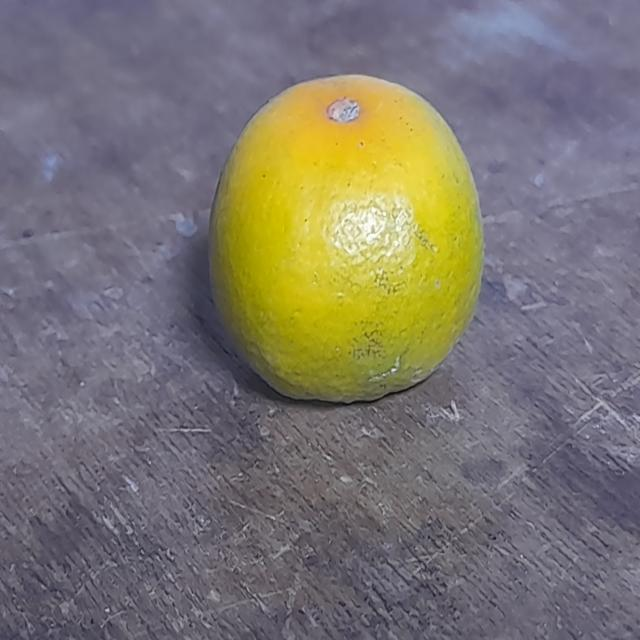greening: (208, 68, 485, 402)
